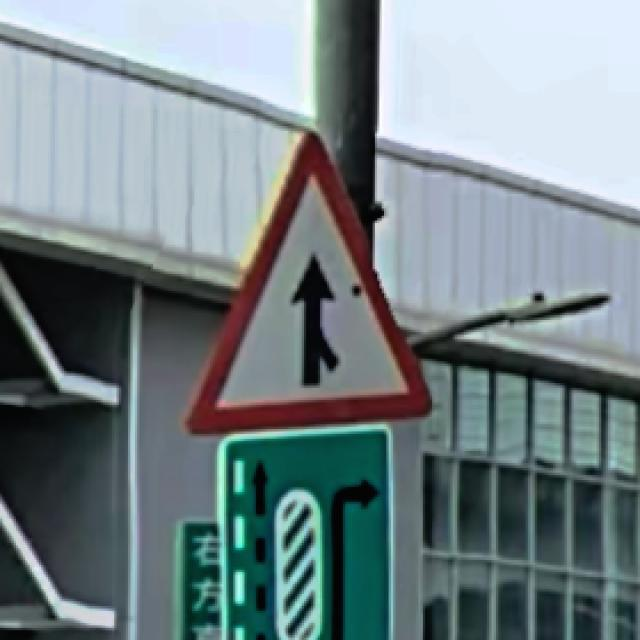rightmerge: (185, 133, 437, 436)
